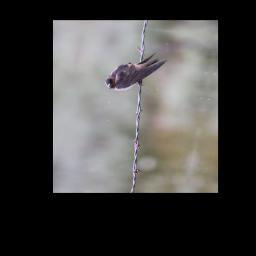Swallow: (102, 46, 169, 96)
